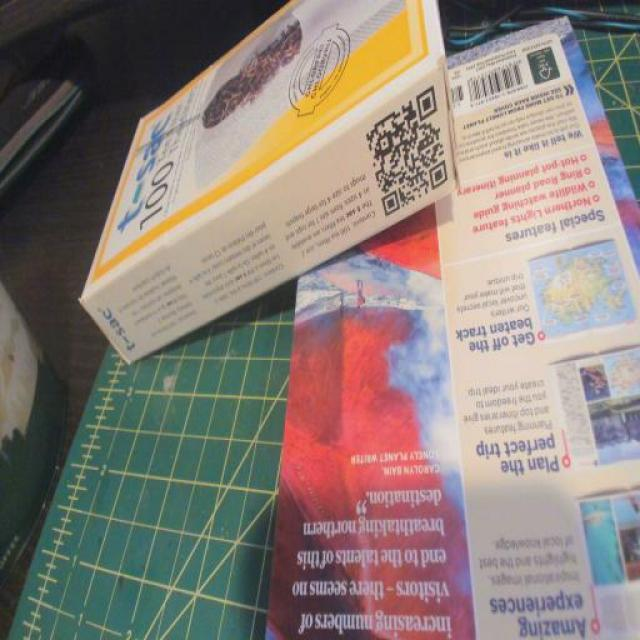QR_CODE: (360, 76, 455, 226)
